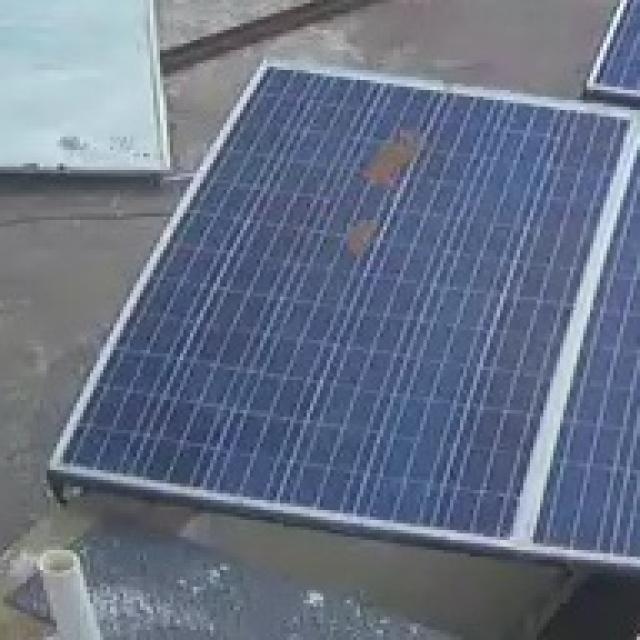Dusty: (358, 122, 419, 194), (340, 212, 383, 264)
